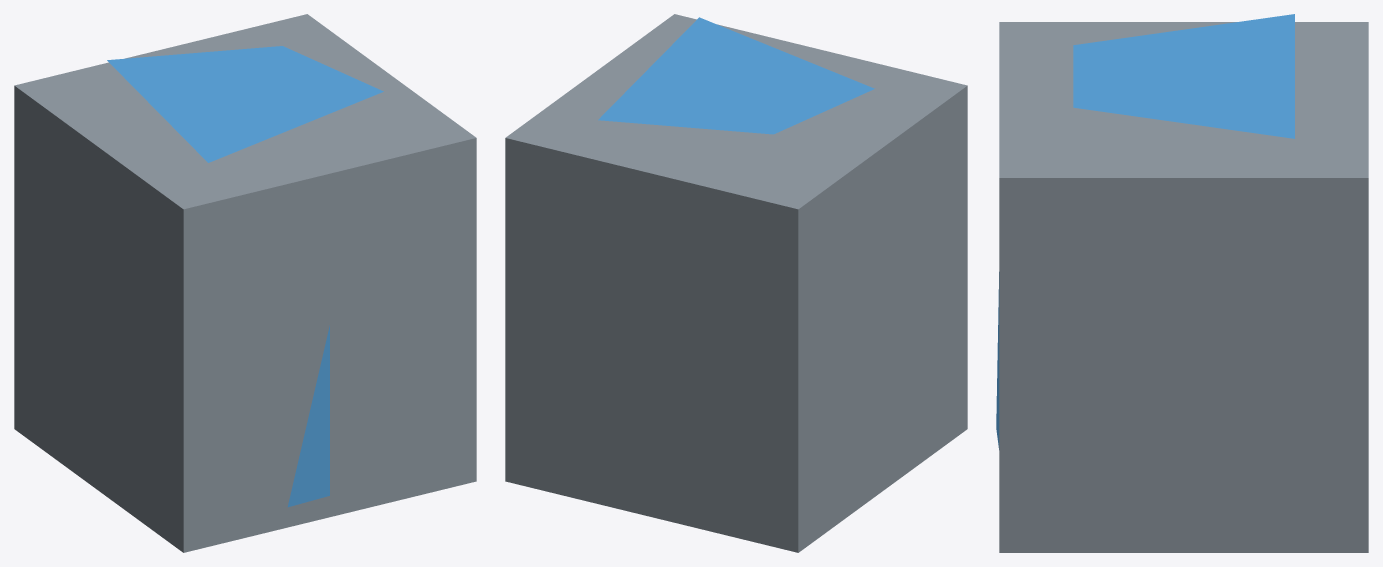
The model's file is AL_PrismTower_LOD1.glb.
The picture shows the model from 3 angles, left to right: view 1: azimuth 30°, elevation 25°; view 2: azimuth 150°, elevation 25°; view 3: azimuth 270°, elevation 25°; orthographic projection. The views are drawn at different scales.
Visible parts, largest first — view 1: EntranceGate; view 2: EntranceGate; view 3: EntranceGate.
Boxes of the visible parts, x1=… form: EntranceGate: x1=14, y1=14, x2=476, y2=552; EntranceGate: x1=505, y1=14, x2=967, y2=552; EntranceGate: x1=996, y1=14, x2=1368, y2=552.
Size of the model in its own units: 400 by 495 by 403.
